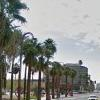Palm tree: (28, 33, 68, 97)
